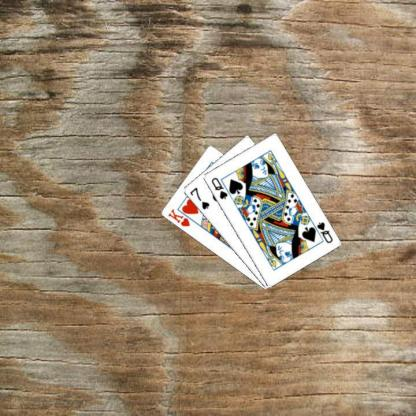7S: (187, 185, 211, 211)
KH: (165, 206, 191, 228)
QS: (208, 174, 228, 200), (314, 220, 333, 244)
